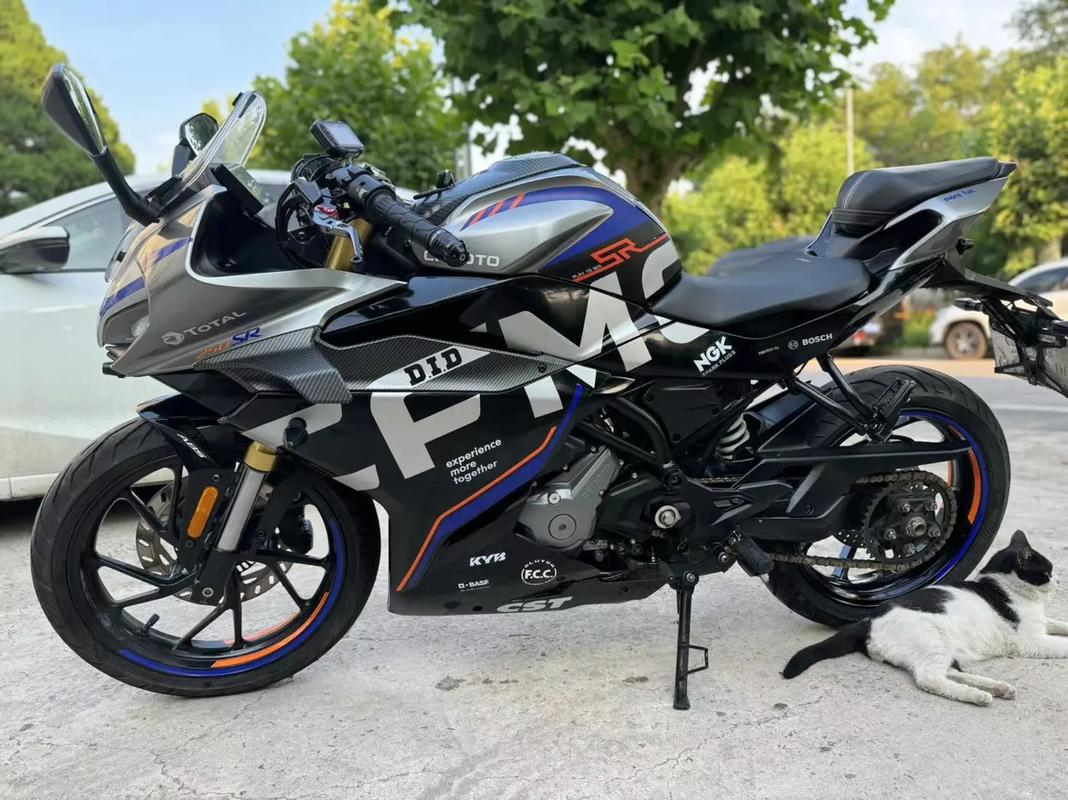摩托车: (17, 63, 1068, 708)
